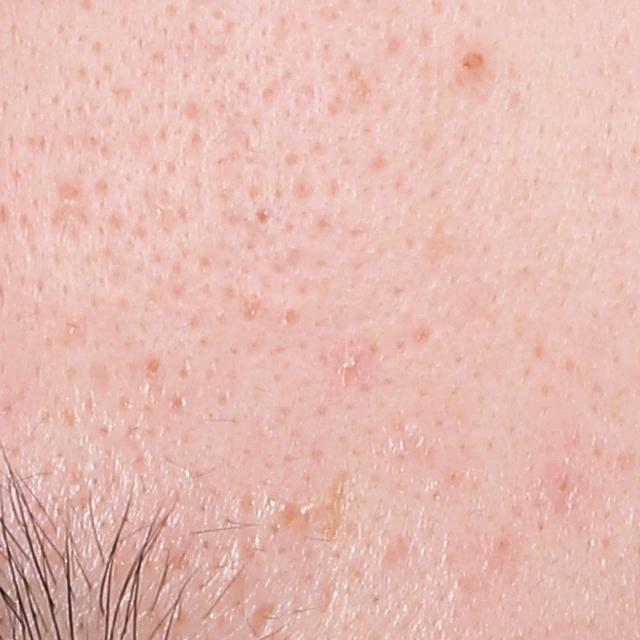atrophic_scar: (42, 177, 97, 251), (324, 64, 376, 119), (250, 593, 279, 639)
comedo: (457, 47, 486, 77), (144, 354, 166, 378)
